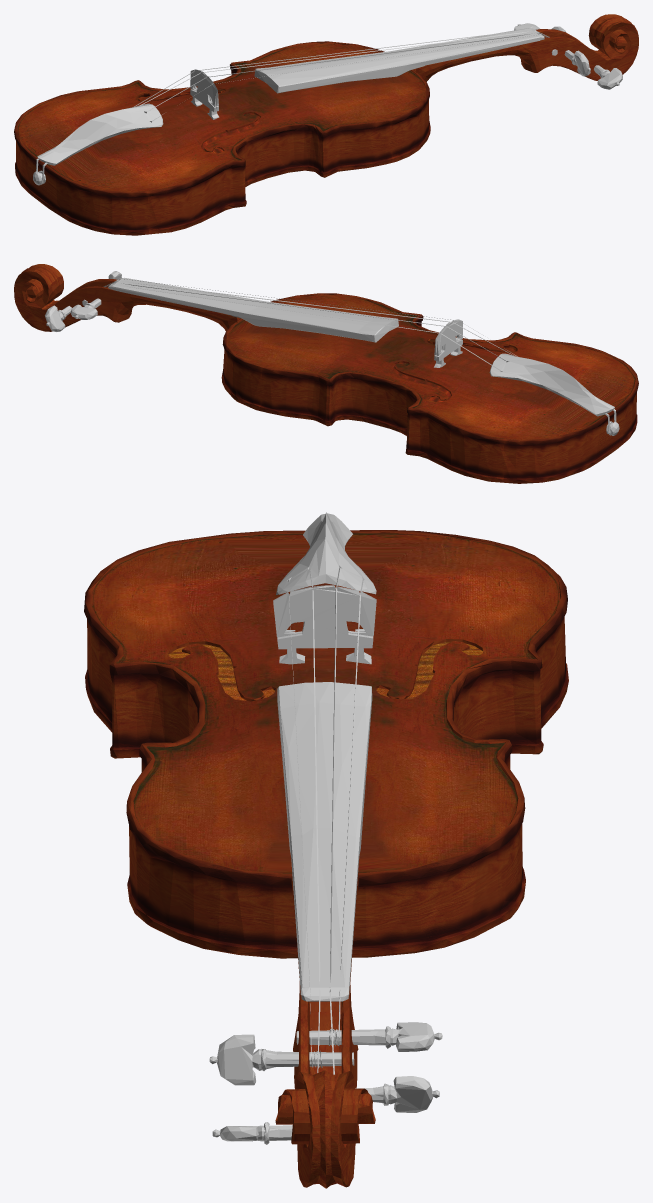
The model's file is violin.obj.
3 renders of one model, top to bottom at view 1: azimuth 30°, elevation 25°; view 2: azimuth 150°, elevation 25°; view 3: azimuth 270°, elevation 25°, orthographic. The views are drawn at different scales.
Visible parts, largest first — view 1: Violin_N180319; view 2: Violin_N180319; view 3: Violin_N180319.
Boxes of the visible parts, left/top/right/bottom form: Violin_N180319: left=14, top=14, right=638, bottom=235; Violin_N180319: left=14, top=264, right=638, bottom=483; Violin_N180319: left=84, top=512, right=568, bottom=1188.
Size of the model in its own units: 438 by 70.63 by 153.
